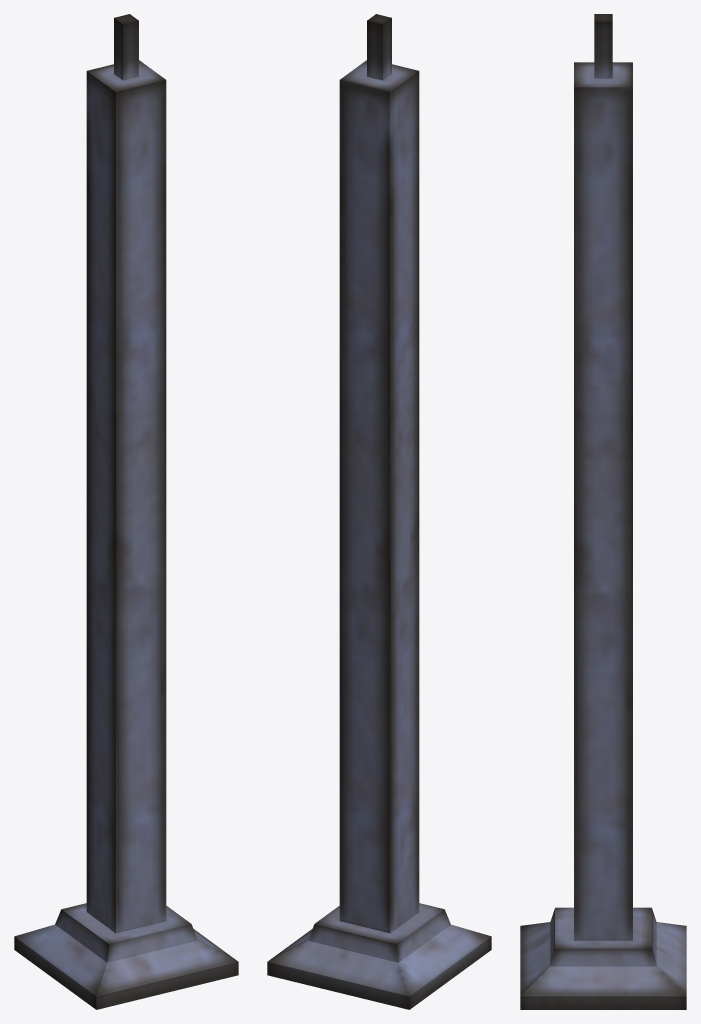
Rendered from Tur1.obj.
3 views of the same model, side by side, from view 1: azimuth 30°, elevation 25°; view 2: azimuth 150°, elevation 25°; view 3: azimuth 270°, elevation 25° (orthographic).
Parts seen in each view (by area): view 1: Box002; view 2: Box002; view 3: Box002.
Part boxes in pixels (left/top/right/bottom): Box002: left=14, top=14, right=238, bottom=1009; Box002: left=267, top=14, right=491, bottom=1009; Box002: left=520, top=14, right=686, bottom=1009.
Bounding box in the file's own units: 0.3476 × 2.2 × 0.3476.
1 material, 1 textured.
